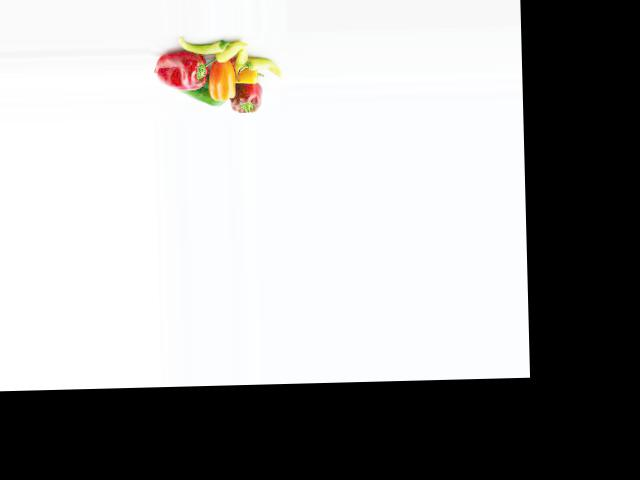bell_pepper: (174, 36, 234, 54)
